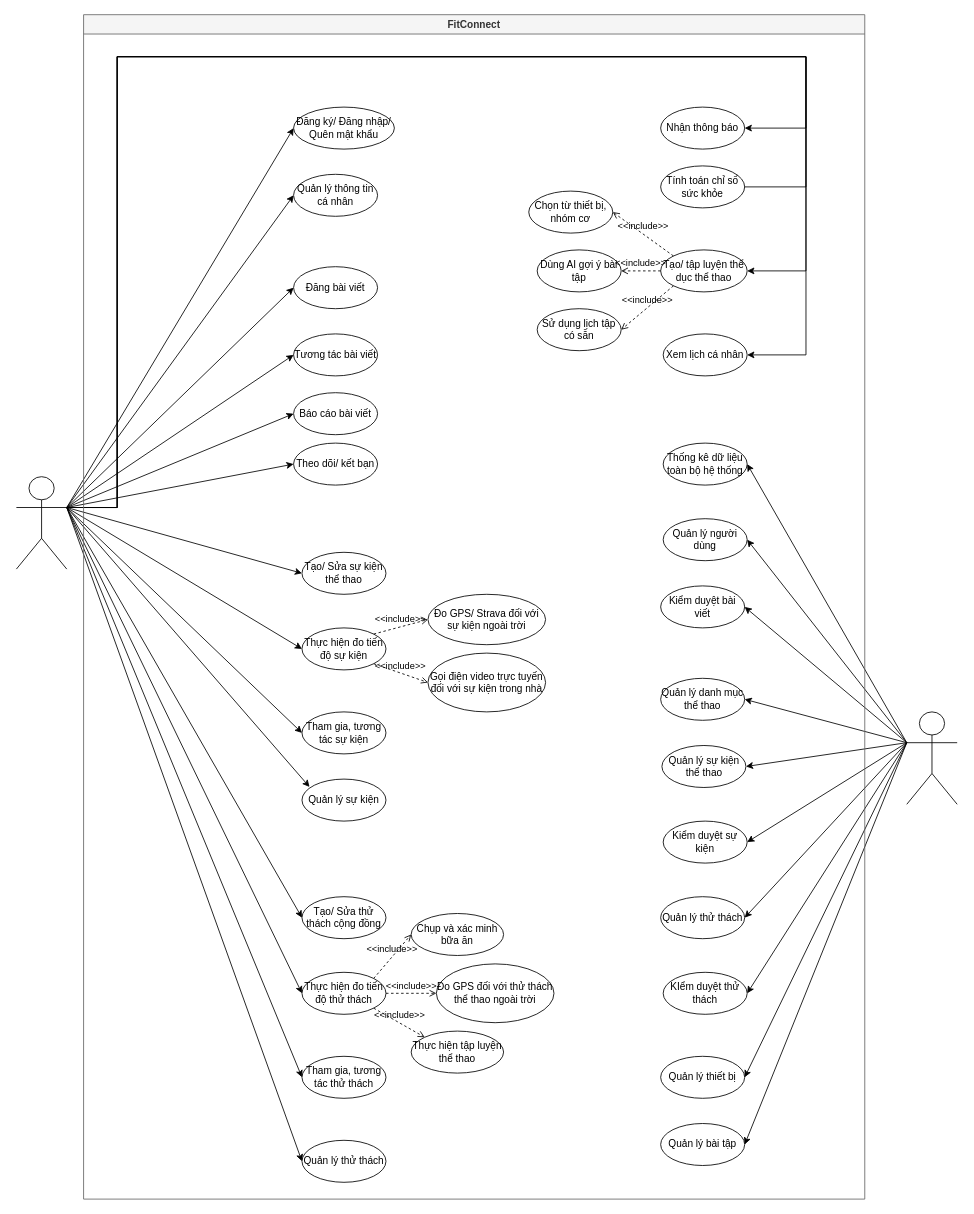
The diagram is 974 pixels wide and 1214 high, and some of its shapes have lost their labels. The shapes that lost their labels are listed below. From the top down, each one's box as (x1, y1, x2, y2) in pixels, then its label:
(16, 476, 67, 569): Người dùng
(906, 711, 957, 804): Quản trị viên
